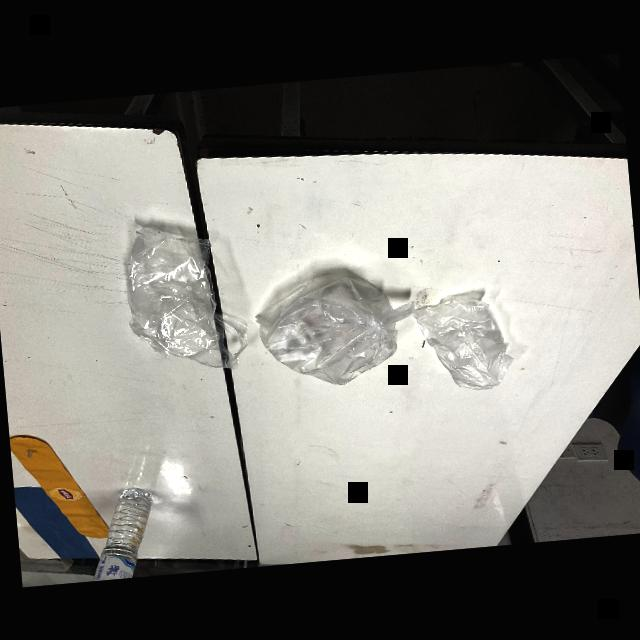plastic_bag: (248, 262, 413, 392), (118, 216, 247, 380), (412, 290, 518, 396)
